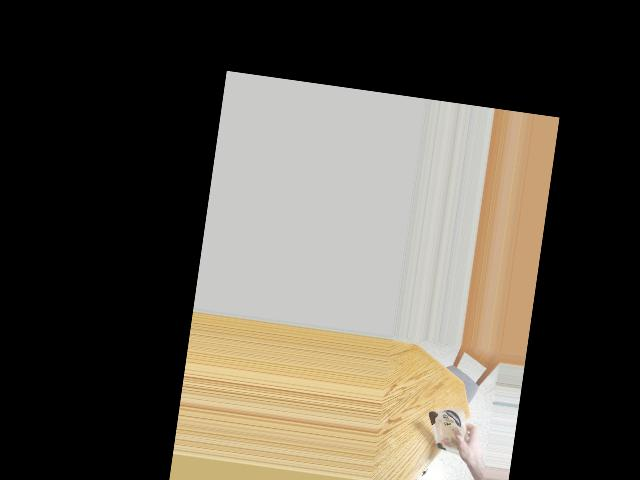cheese: (426, 407, 468, 460)
